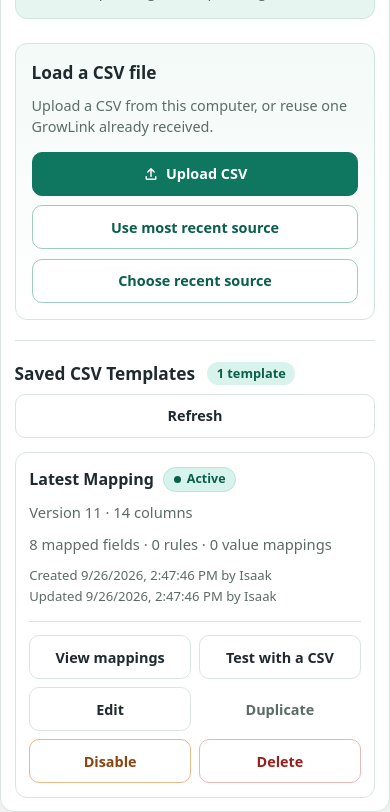
CsvTemplateBuilderTab — testing a template with a retained source › tests a saved template against a recent source without uploading a file
(page scrolled)
Click the button "Test with a CSV".
click(280, 657)  # box [199,635,361,679]
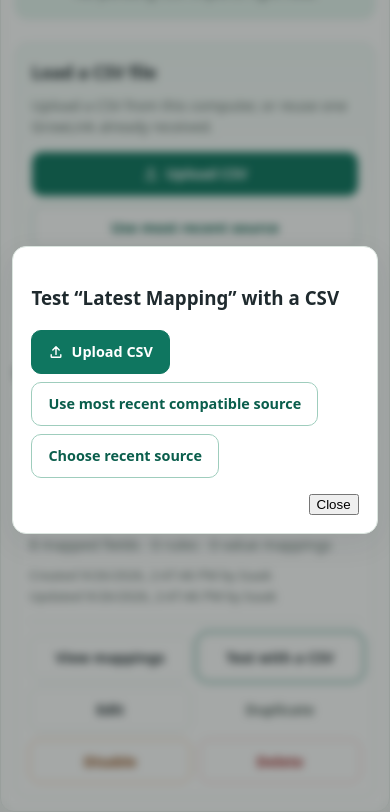
Click the button "Use most recent compatible source".
click(175, 404)  # box [31,382,318,426]
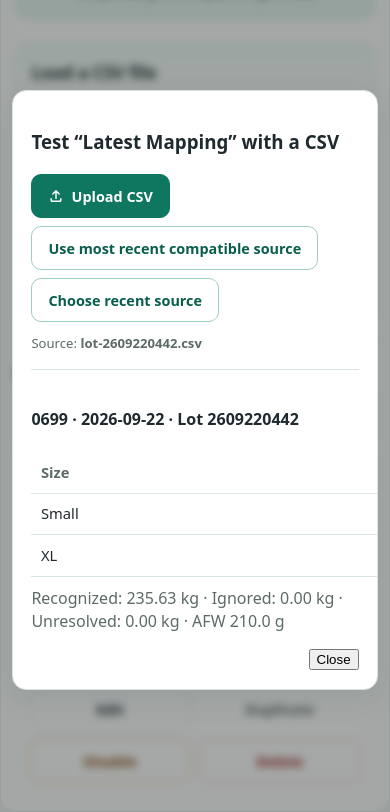
Result: the text "AFW 210.0 g" is shown at [31,587,359,633]
Result: the text "lot-2609220442.csv" is shown at [80,334,202,352]
